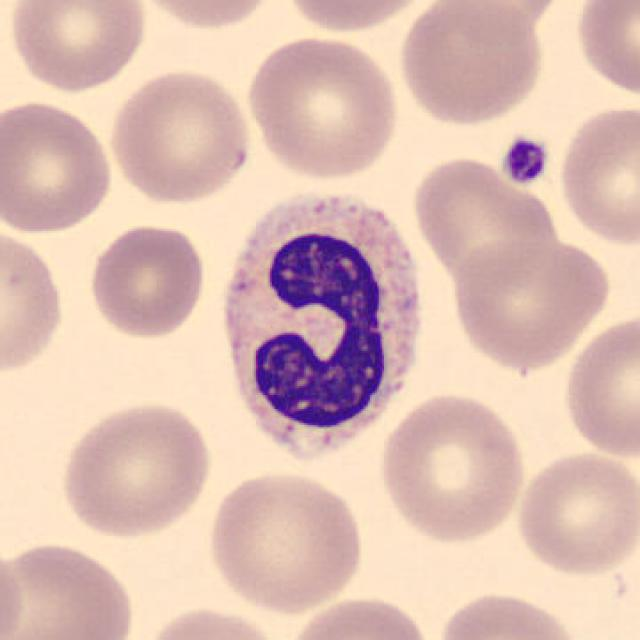Neutrophil: (212, 180, 434, 479)
Platelets: (500, 134, 551, 187)
RBC: (203, 468, 368, 616), (375, 388, 530, 545), (242, 32, 404, 182), (55, 397, 215, 541), (446, 235, 614, 372), (105, 66, 256, 206), (407, 152, 560, 286), (394, 0, 548, 129), (512, 446, 638, 580), (0, 95, 117, 236), (84, 220, 210, 342), (0, 536, 140, 640), (3, 0, 151, 93), (554, 100, 640, 248), (558, 308, 638, 462), (0, 222, 69, 380), (434, 587, 586, 640), (281, 592, 437, 640), (570, 0, 638, 102), (279, 0, 442, 35), (137, 603, 290, 640), (127, 0, 284, 33), (439, 0, 571, 37), (0, 536, 27, 640)
